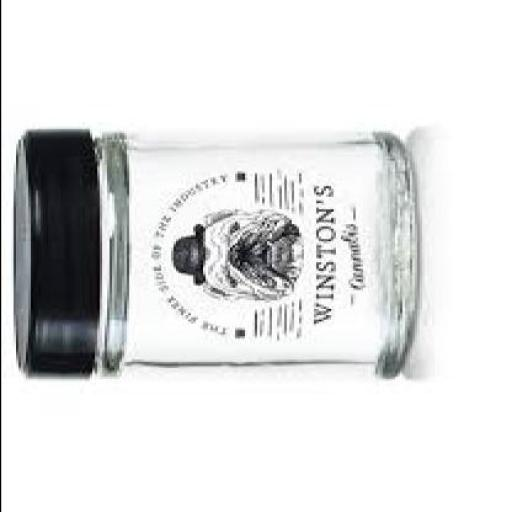glass: (88, 133, 414, 381)
metal: (7, 133, 96, 379)
